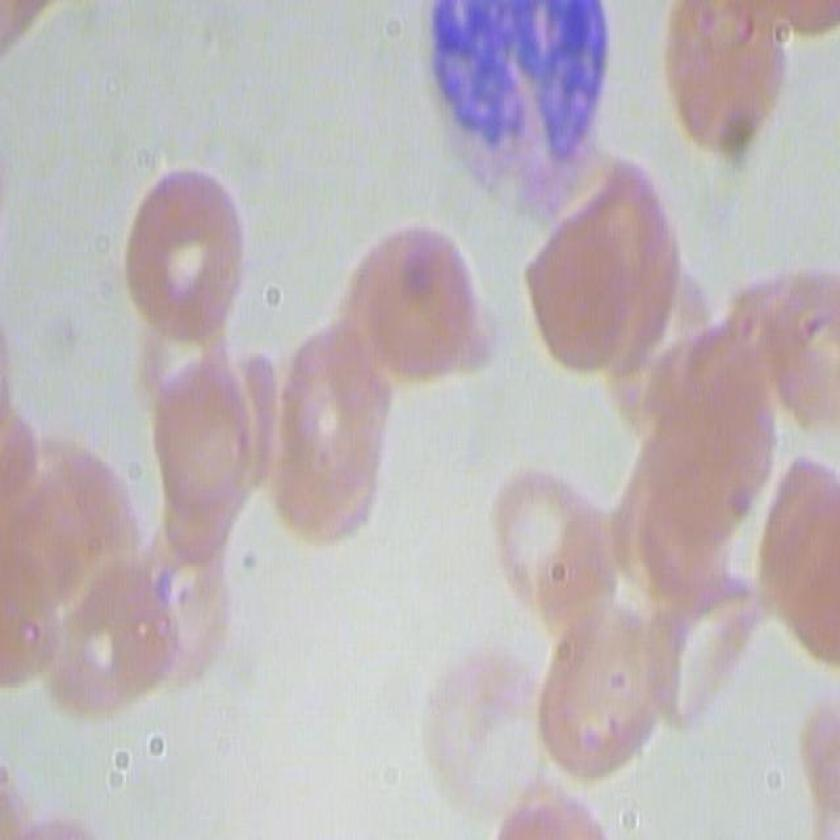neutrophil: (403, 1, 610, 176)
